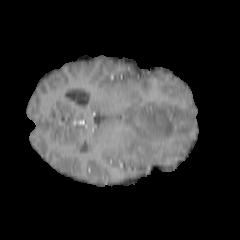glioma: (124, 107, 195, 163)
